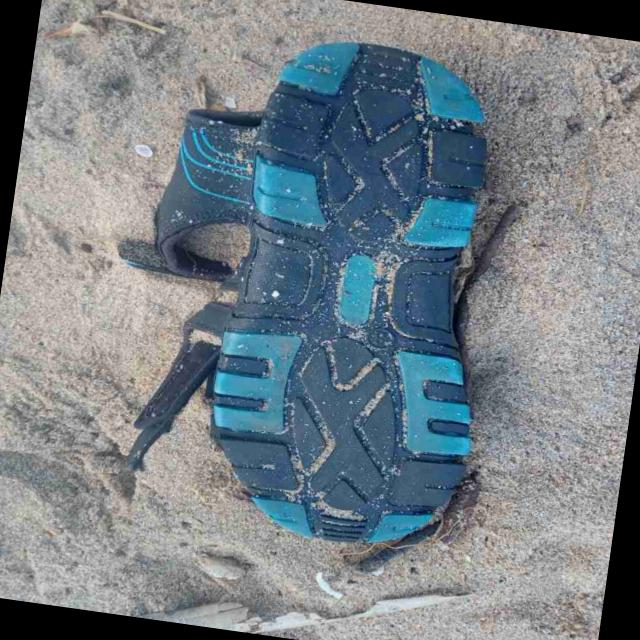dep: (155, 41, 486, 544)
